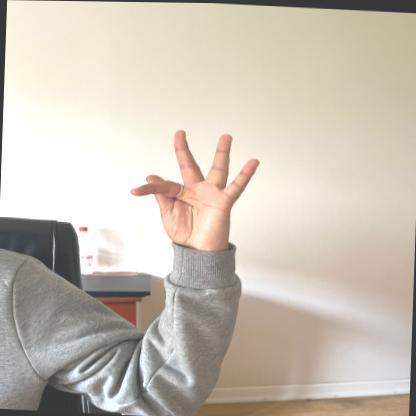F: (122, 121, 266, 255)
